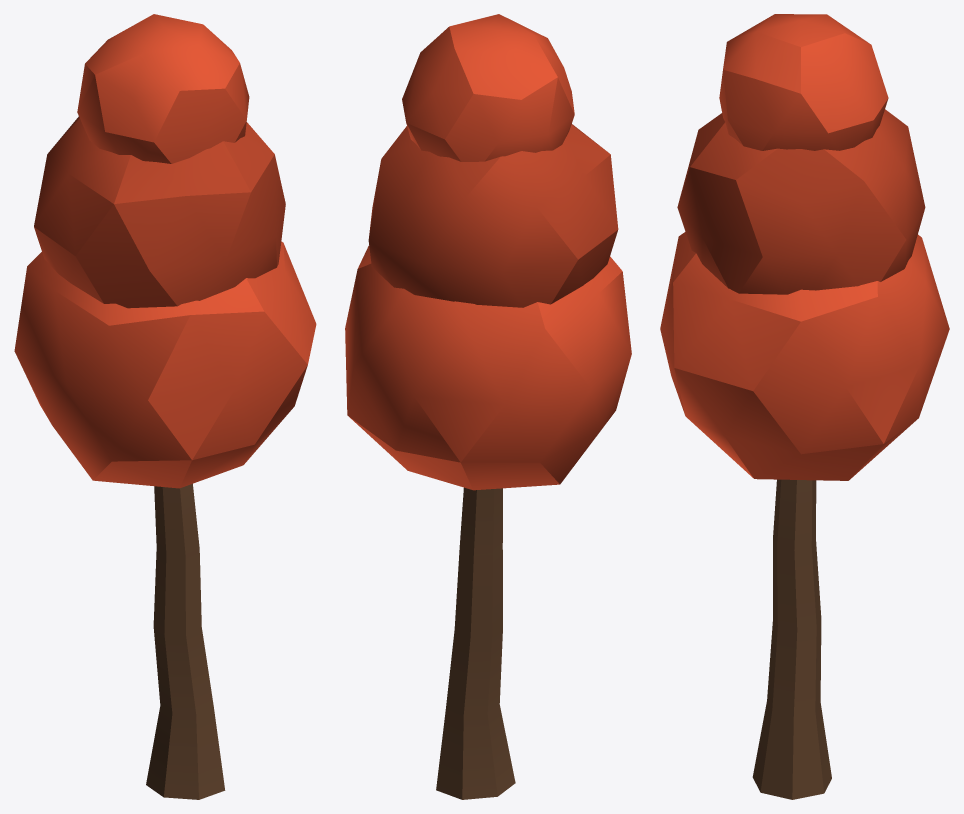
Rendered from AutumnTreeTall.fbx.
3 views of the same model, side by side, from view 1: azimuth 30°, elevation 25°; view 2: azimuth 150°, elevation 25°; view 3: azimuth 270°, elevation 25° (orthographic).
Parts seen in each view (by area): view 1: AutumnTreeTall_Body, AutumnTreeTall_Shade, AutumnTreeTall_BarkDark; view 2: AutumnTreeTall_Body, AutumnTreeTall_Shade, AutumnTreeTall_BarkDark; view 3: AutumnTreeTall_Body, AutumnTreeTall_Shade, AutumnTreeTall_BarkDark.
Boxes of the visible parts, left/top/right/bottom form: AutumnTreeTall_Body: left=14, top=14, right=316, bottom=488; AutumnTreeTall_Shade: left=34, top=116, right=285, bottom=308; AutumnTreeTall_BarkDark: left=146, top=483, right=225, bottom=799; AutumnTreeTall_Body: left=345, top=14, right=631, bottom=490; AutumnTreeTall_Shade: left=368, top=124, right=618, bottom=307; AutumnTreeTall_BarkDark: left=436, top=487, right=515, bottom=799; AutumnTreeTall_Body: left=660, top=14, right=949, bottom=480; AutumnTreeTall_Shade: left=677, top=109, right=925, bottom=294; AutumnTreeTall_BarkDark: left=752, top=479, right=831, bottom=799.
Size of the model in its own units: 434 by 1239 by 432.
